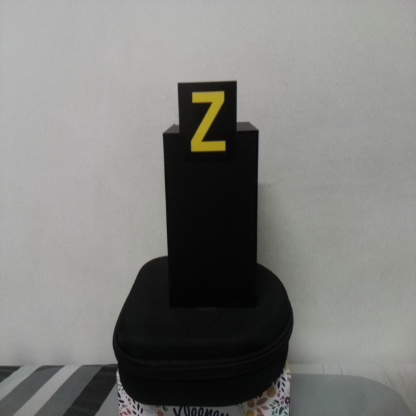id_15: (178, 83, 237, 166)
